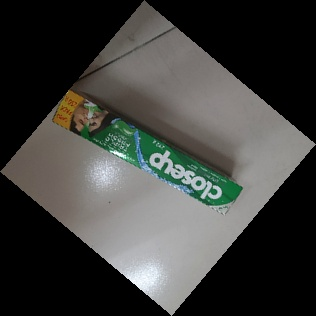CloseUp Xanh: (52, 89, 244, 218)
